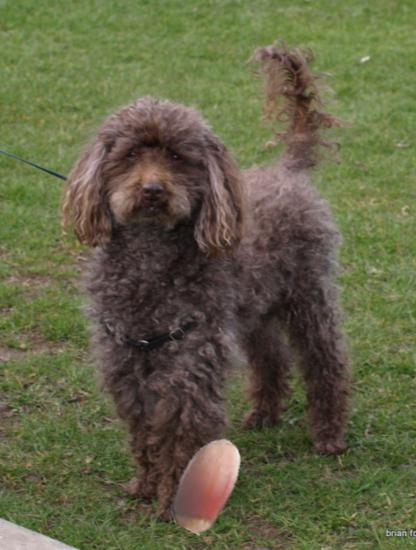Hazelnut: (156, 432, 257, 533)
